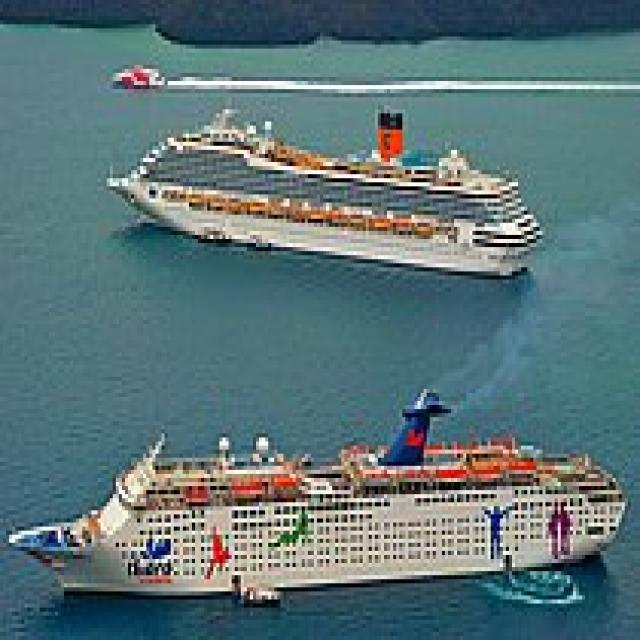Ship: (4, 382, 635, 609), (99, 90, 550, 285)
